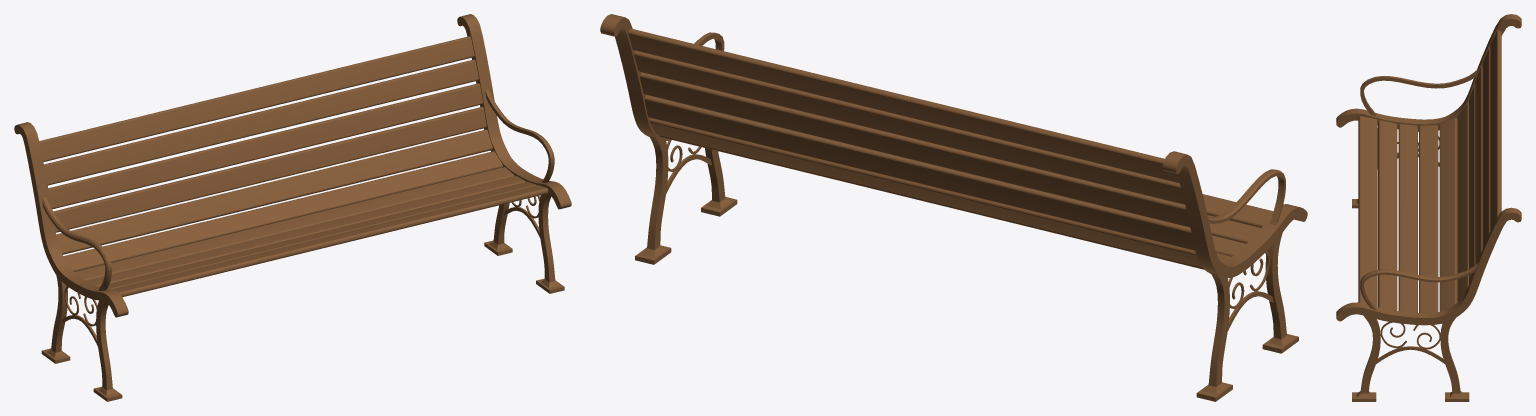
The model's file is rua_streetbank.glb.
3 renders of one model, left to right at view 1: azimuth 30°, elevation 25°; view 2: azimuth 150°, elevation 25°; view 3: azimuth 270°, elevation 25°, orthographic. The views are drawn at different scales.
Visible parts, largest first — view 1: SM_Bank; view 2: SM_Bank; view 3: SM_Bank.
Part boxes in pixels (left/top/right/bottom): SM_Bank: left=14, top=14, right=571, bottom=401; SM_Bank: left=600, top=14, right=1307, bottom=401; SM_Bank: left=1336, top=14, right=1521, bottom=401.
Size of what is drawn, in the model's own units: 1.94 by 0.8525 by 0.7599.
